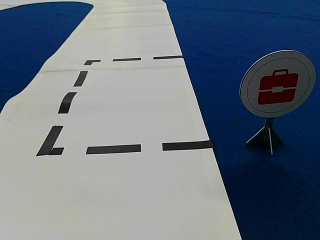company: (240, 51, 315, 116)
